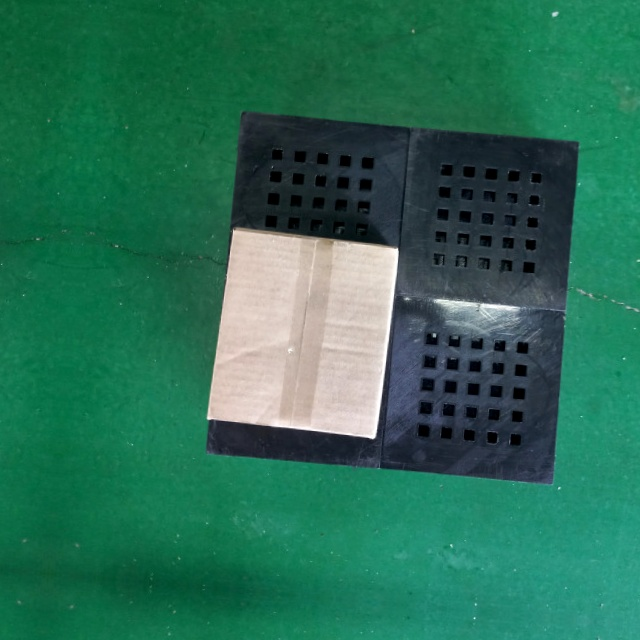box: (204, 224, 401, 444)
pallet: (194, 96, 593, 503)
